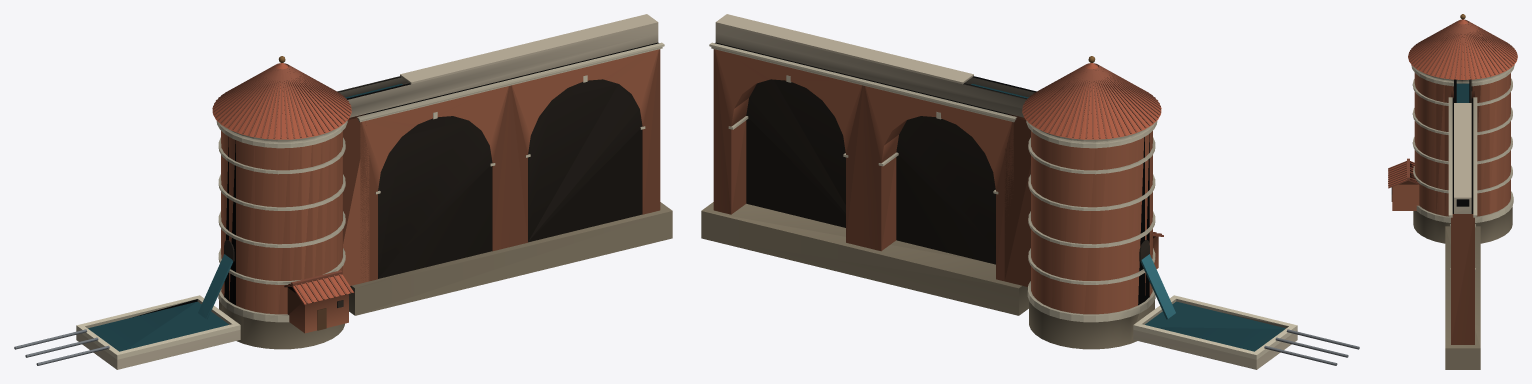
File: rome_castellum.glb
The picture shows the model from 3 angles, left to right: view 1: azimuth 30°, elevation 25°; view 2: azimuth 150°, elevation 25°; view 3: azimuth 270°, elevation 25°; orthographic projection. The views are drawn at different scales.
Parts seen in each view (by area): view 1: rome_castellum; view 2: rome_castellum; view 3: rome_castellum.
Boxes of the visible parts, x1,y1,x2,y2 form: rome_castellum: (14,14,672,369); rome_castellum: (701,14,1359,369); rome_castellum: (1388,14,1517,369).
Bounding box in the file's own units: 72 × 28.85 × 16.19.
